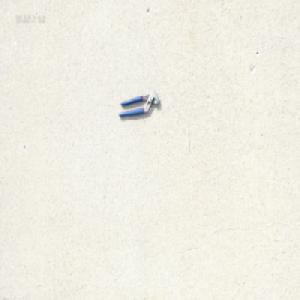Pliers: (118, 90, 160, 118)
